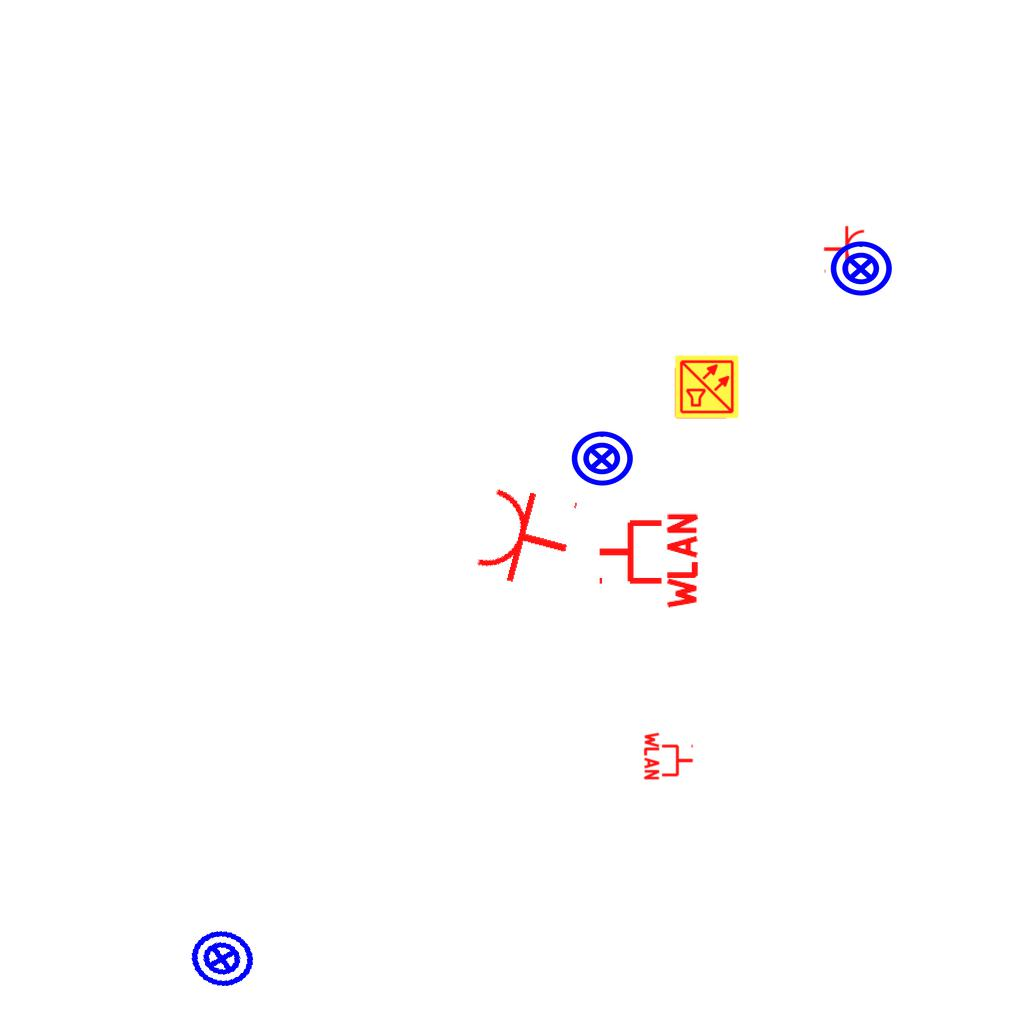OKW_Multisensormelder_(Kombination_optischer_Rauch-Kahlenmonoxid_Waerme-Melder): (674, 354, 740, 420)
Schukosteckdose_einfach: (471, 476, 582, 596), (823, 225, 866, 275)
Taster_beleuchtet: (182, 919, 262, 999), (569, 426, 635, 492), (828, 236, 894, 302)
WLAN: (595, 509, 700, 613), (643, 730, 695, 782)
